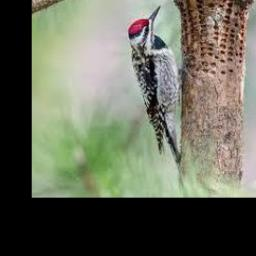Woodpecker: (129, 4, 183, 167)
